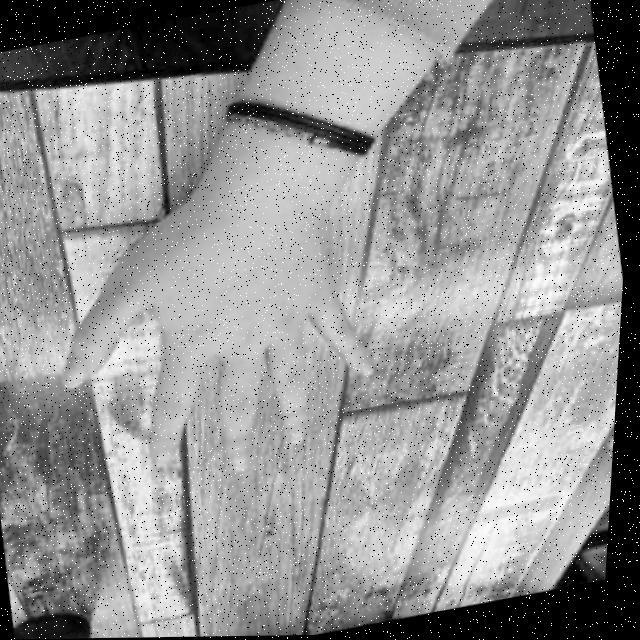no-gloves: (36, 185, 404, 508)
